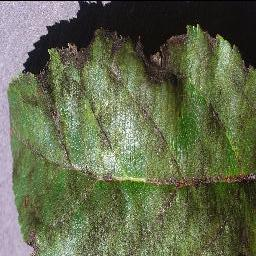apple healthy: (6, 22, 255, 255)
